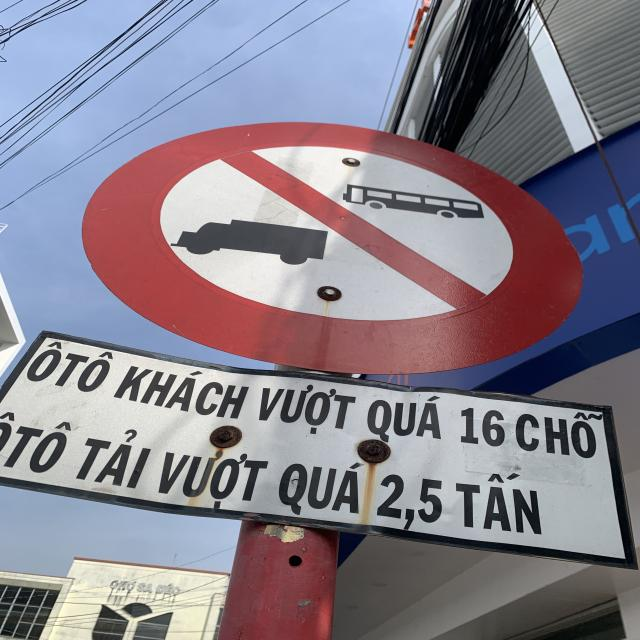Cam_XeTai_XeKhach: (80, 121, 587, 375)
